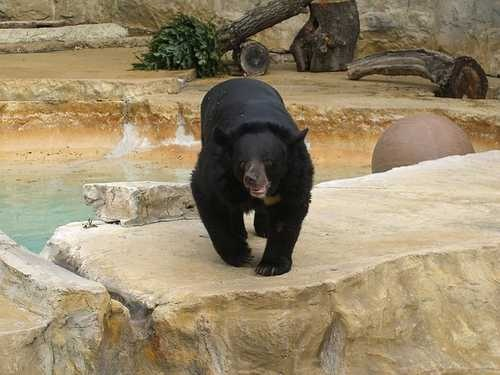bear: (186, 123, 314, 251)
